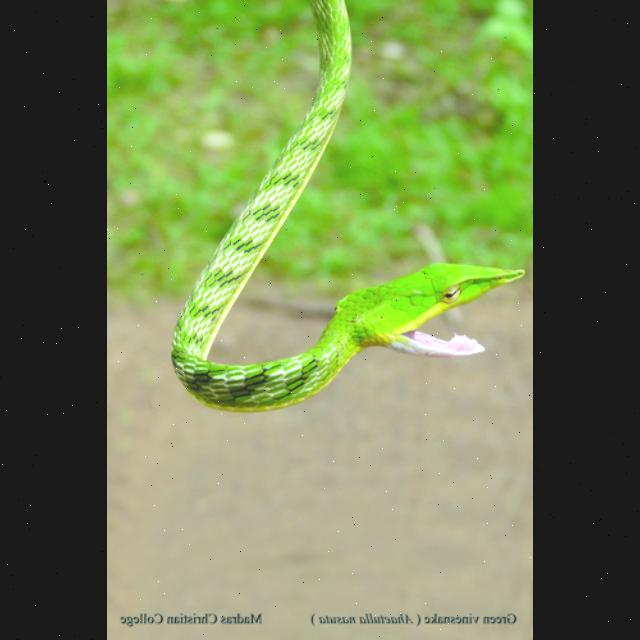snake: (160, 0, 520, 442)
